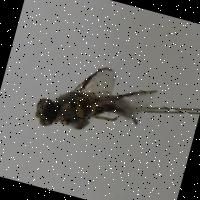Oriental-fruit-fly: (27, 37, 164, 154)
